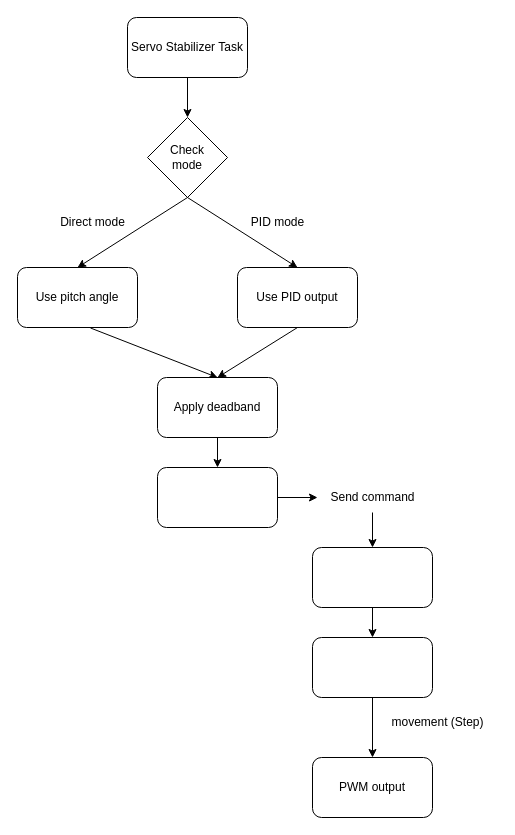
The diagram is 515 pixels wide and 835 high, and some of its shapes have lost their labels. The shapes that lost their labels are listed below. From the top down, each one's centre as x and y in pixels, then its label:
At point (217, 497): "convert to angle".
At point (372, 577): "servo queue".
At point (372, 667): "Servo Task".
